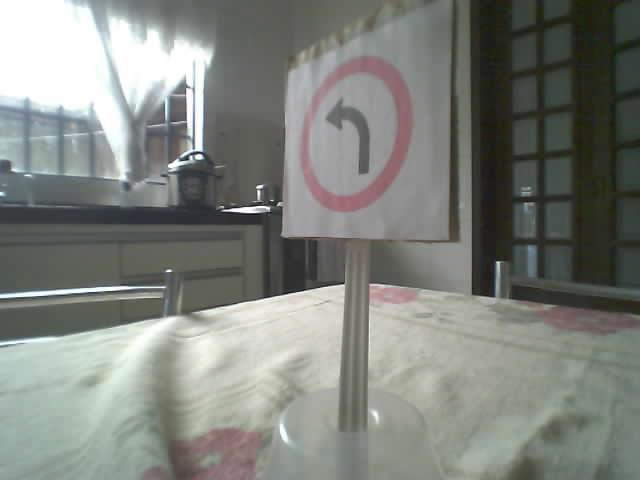R-25a_esquerda: (299, 54, 413, 209)
